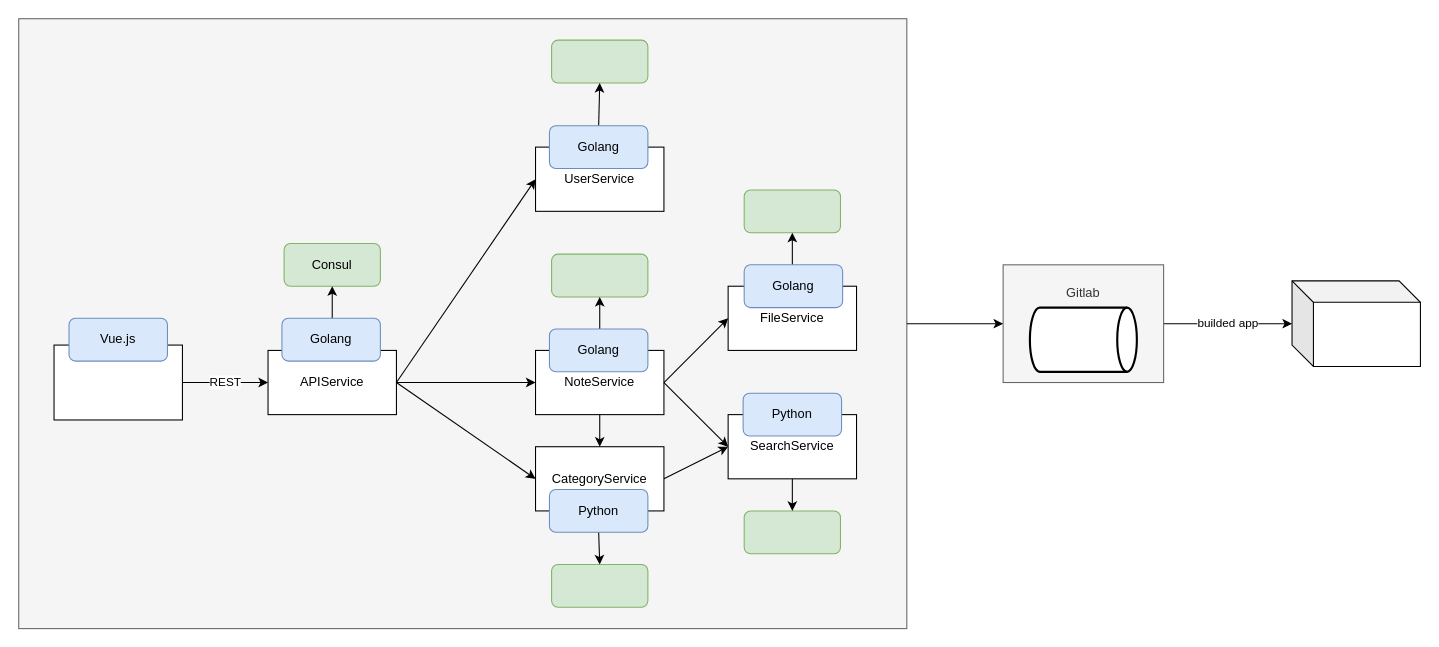
This 1439x647 diagram has some shape labels left out. The centre of each missing label's shape, as x and y in pixels:
"CI/CD" goes at (1082,339).
"Elasticsearch" goes at (791,532).
"MiniO" goes at (791,211).
"MongoDB" goes at (599,275).
"Neo4j" goes at (599,585).
"PostgreSQL" goes at (599,61).
"Server" goes at (1355,323).
"WebClient" goes at (117,382).
